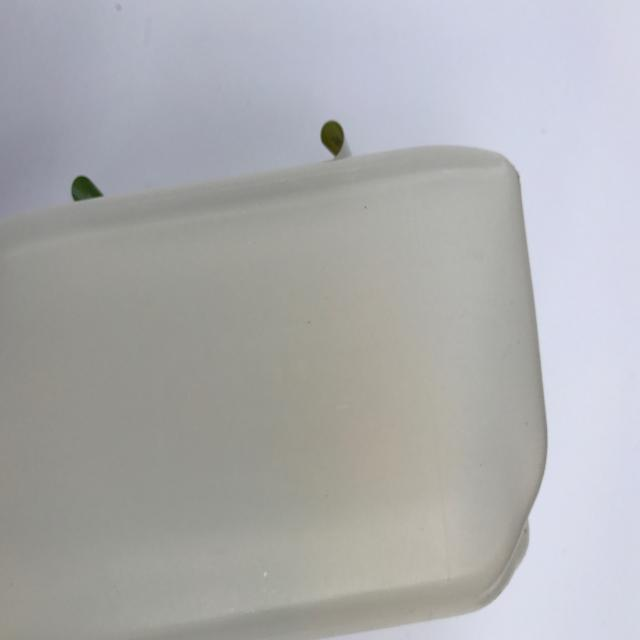plastic: (0, 137, 549, 640)
